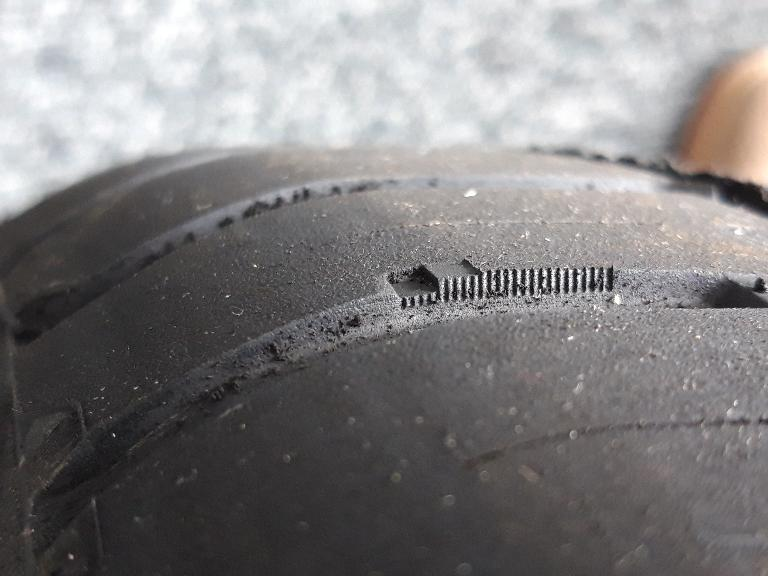temoin:25: (369, 247, 497, 328)
